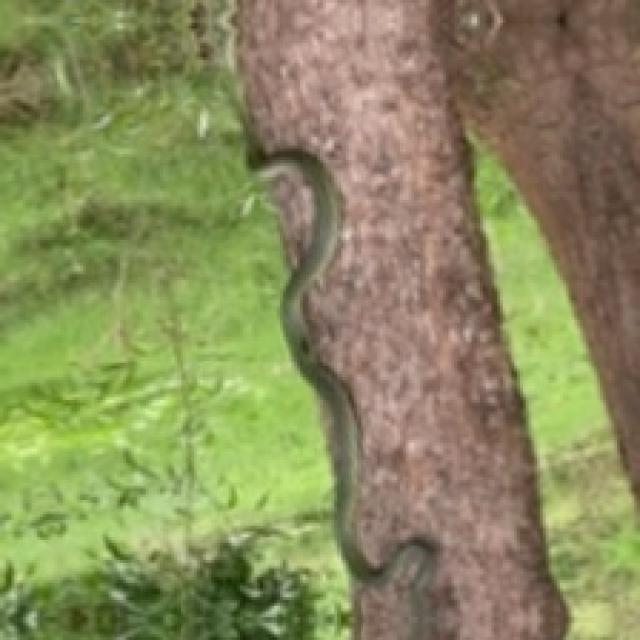paradise tree snake: (254, 149, 431, 580)
